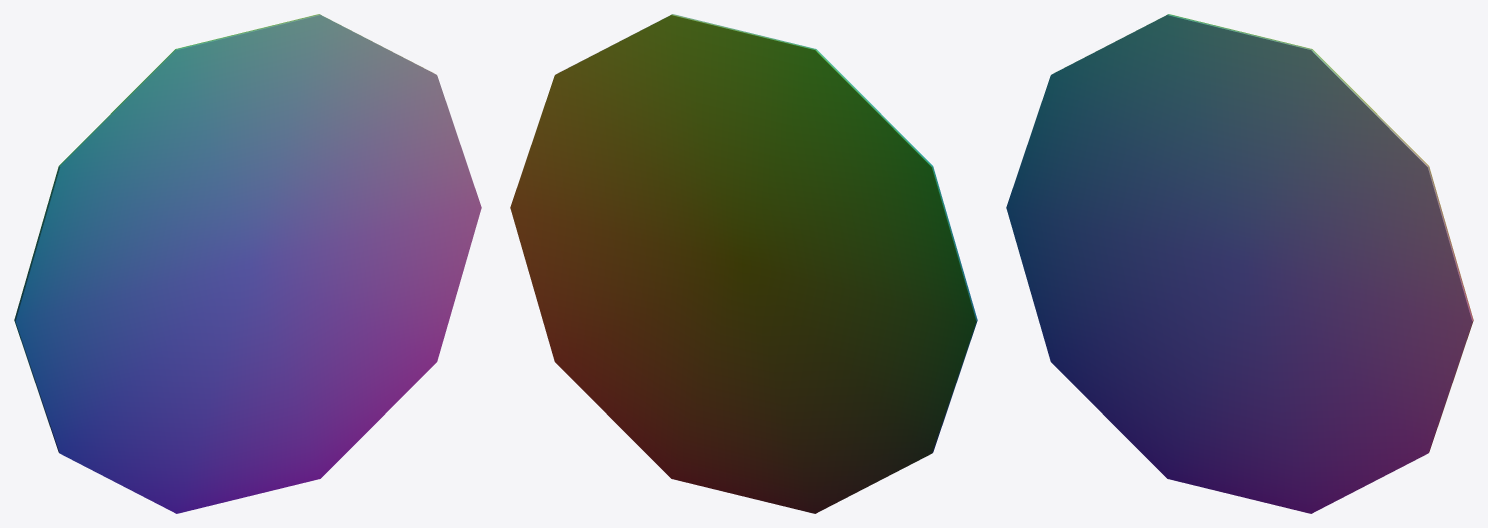
File: zeometry-flat-shapes-flat-oval_v6.glb
The picture shows the model from 3 angles, left to right: view 1: azimuth 30°, elevation 25°; view 2: azimuth 150°, elevation 25°; view 3: azimuth 330°, elevation 25°; orthographic projection.
Visible parts, largest first — view 1: Flat Oval_v6; view 2: Flat Oval_v6; view 3: Flat Oval_v6.
Boxes of the visible parts, x1,y1,x2,y2 form: Flat Oval_v6: (14,14,481,513); Flat Oval_v6: (510,14,977,513); Flat Oval_v6: (1006,14,1473,513).
Bounding box in the file's own units: 0.5 × 0.4755 × 0.0028.
